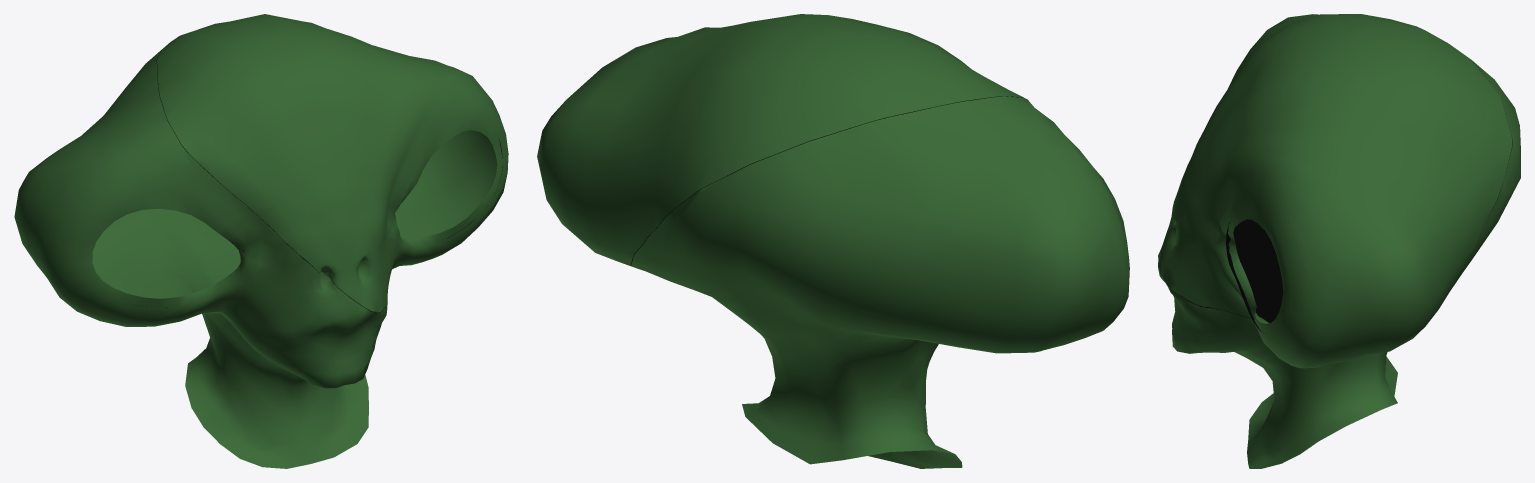
The model's file is alien3full-compressed.glb.
The picture shows the model from 3 angles, left to right: view 1: azimuth 30°, elevation 25°; view 2: azimuth 150°, elevation 25°; view 3: azimuth 270°, elevation 25°; orthographic projection. The views are drawn at different scales.
Visible parts, largest first — view 1: Object_3_cell.003; view 2: Object_3_cell.003; view 3: Object_3_cell.003.
Part boxes in pixels (x1,y1,x2,y2): Object_3_cell.003: (14,14,508,468); Object_3_cell.003: (537,14,1129,468); Object_3_cell.003: (1158,14,1520,468).
Bounding box in the file's own units: 1.29 × 1.05 × 0.8288.
